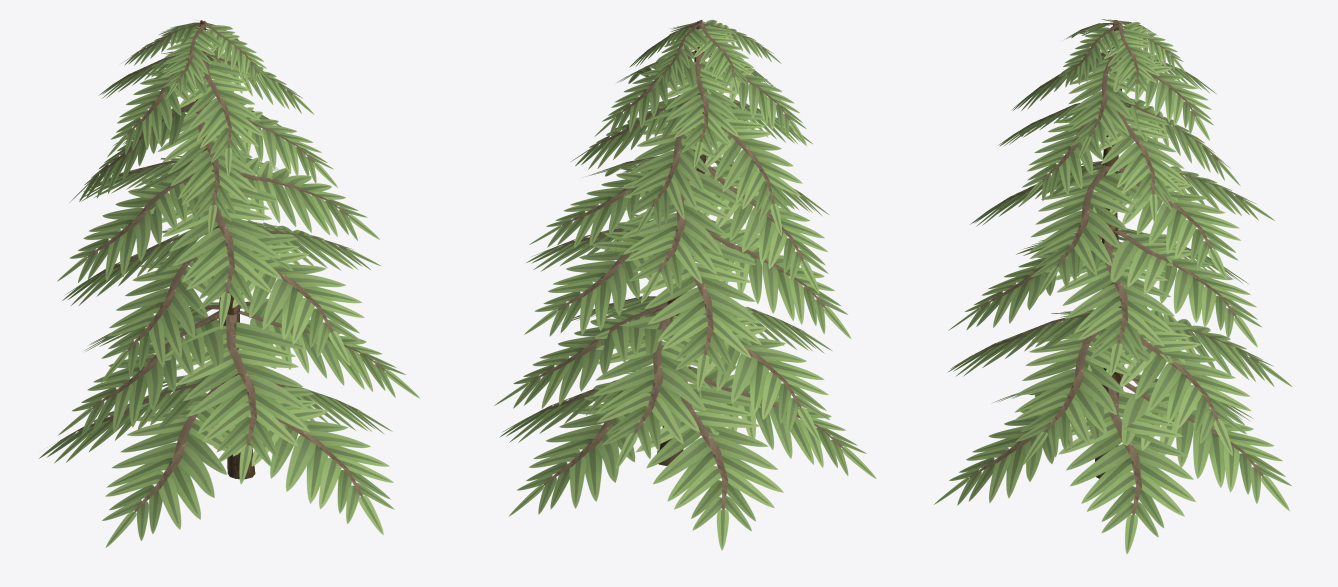
The model's file is Pine_2.glb.
3 views of the same model, side by side, from view 1: azimuth 30°, elevation 25°; view 2: azimuth 150°, elevation 25°; view 3: azimuth 270°, elevation 25° (orthographic). The views are drawn at different scales.
Visible parts, largest first — view 1: Pine_2_leaves, Pine_2; view 2: Pine_2_leaves; view 3: Pine_2_leaves, Pine_2.
Boxes of the visible parts, bbox=[...] form: Pine_2_leaves: bbox=[39, 20, 419, 547]; Pine_2: bbox=[195, 20, 255, 479]; Pine_2_leaves: bbox=[494, 20, 876, 550]; Pine_2_leaves: bbox=[934, 19, 1292, 553]; Pine_2: bbox=[1095, 20, 1124, 478].
Size of the model in its own units: 6.61 by 8.34 by 6.78.
2 materials, 2 textured.
